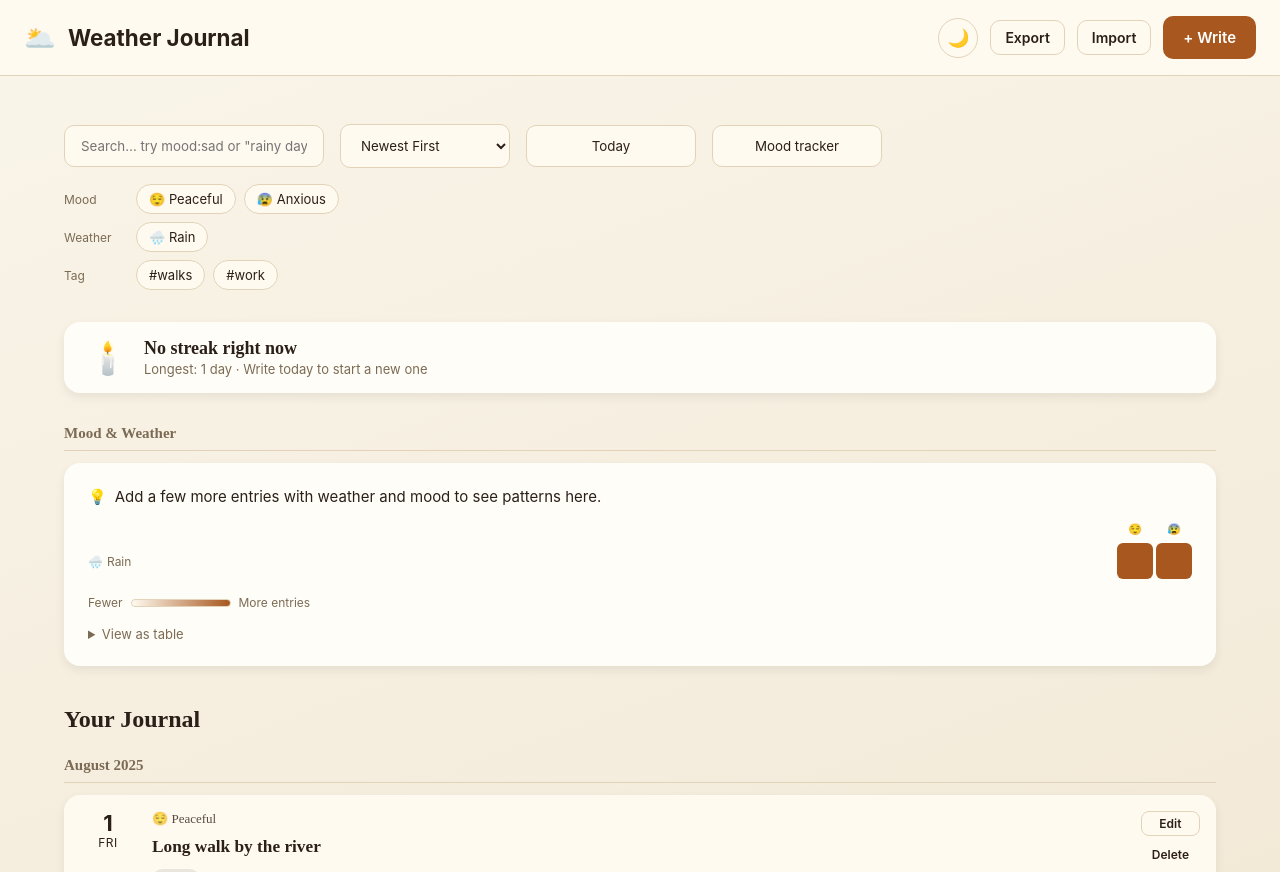
Test: Smarter search › understands operators and highlights matches
The image size is (1280, 872).
Type "rainy mood:peaceful" into the field named "Search journal entries" at (194, 146), box [64,125,324,167]
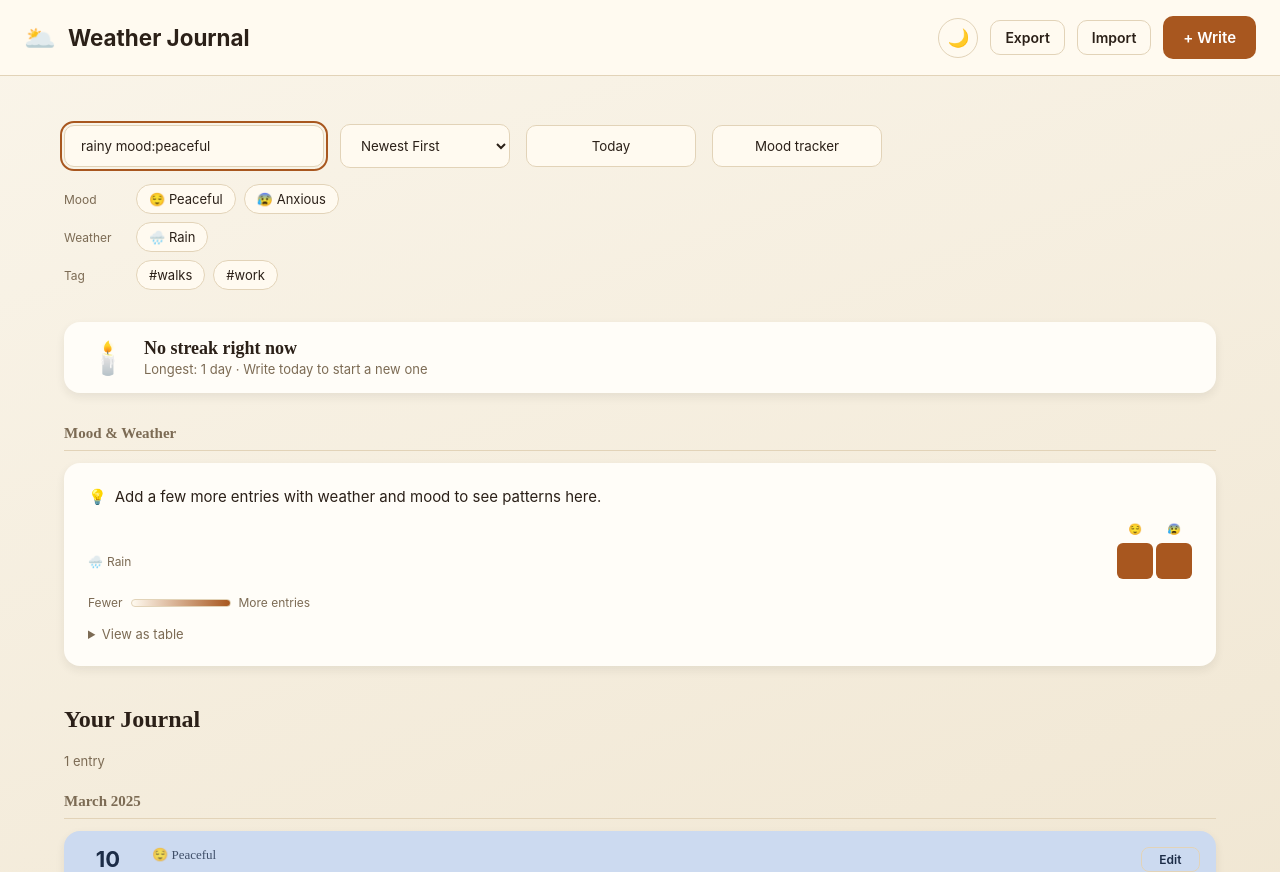
Expected: the message reads "1 entry", [64,753,105,769]
